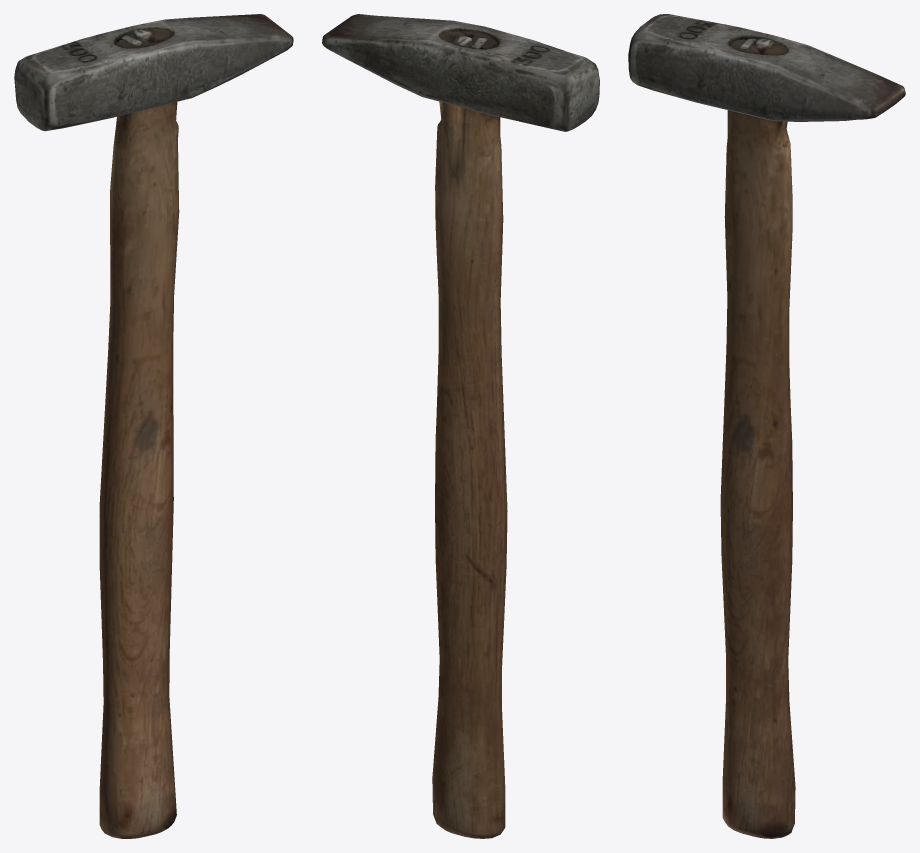
The model's file is cross_pein_hammer.glb.
3 renders of one model, left to right at view 1: azimuth 30°, elevation 25°; view 2: azimuth 150°, elevation 25°; view 3: azimuth 330°, elevation 25°, orthographic.
Parts seen in each view (by area): view 1: cross_pein_hammer; view 2: cross_pein_hammer; view 3: cross_pein_hammer.
Part boxes in pixels (x1,y1,x2,y2): cross_pein_hammer: (14, 14, 293, 838); cross_pein_hammer: (322, 14, 599, 838); cross_pein_hammer: (628, 14, 905, 838).
Size of the model in its own units: 0.099 by 0.3002 by 0.0241.
Materials: 1 (1 with a texture image).
